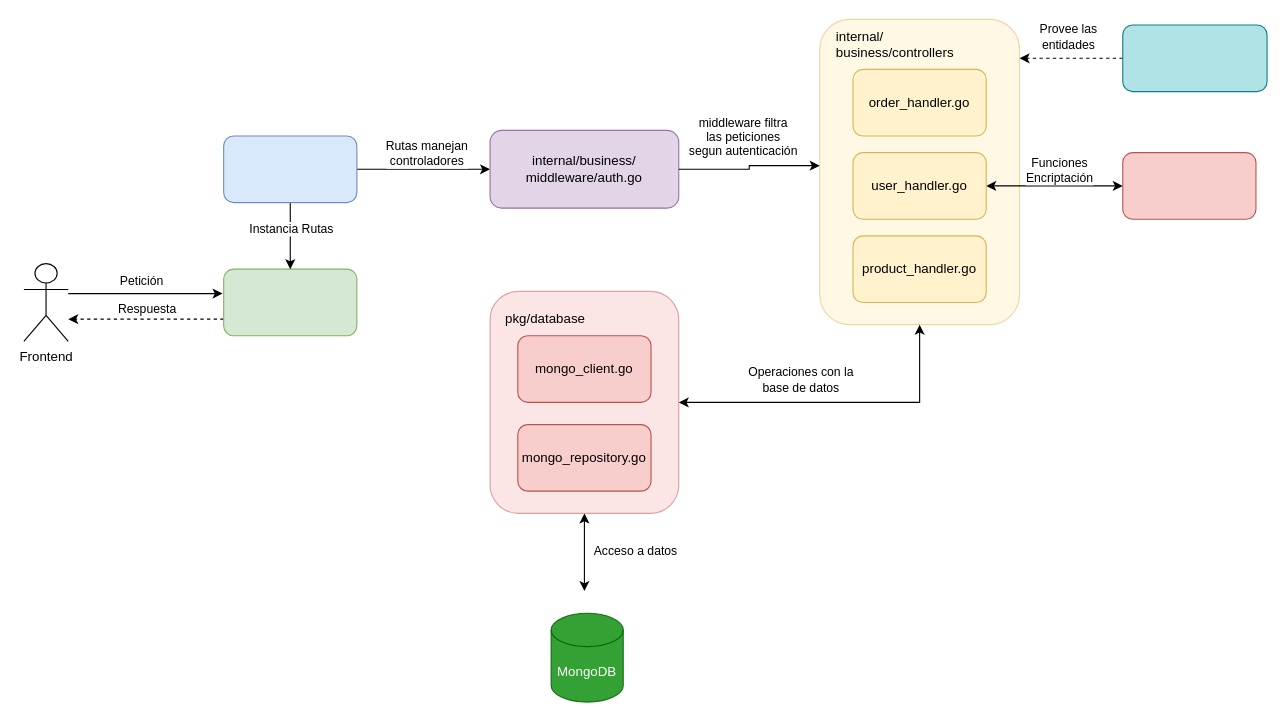
Some shapes in this 1286 by 722 pixel diagram are drawn without their labels. Here are the shapes that lost their labels. From the top down, the box of each, then its label:
(1122, 24, 1267, 92): internal/business/ data/types.go
(223, 135, 357, 203): internal/api/router.go
(1122, 152, 1256, 219): pkg/auth/auth.go
(223, 268, 357, 336): cmd/backbu/main.go
